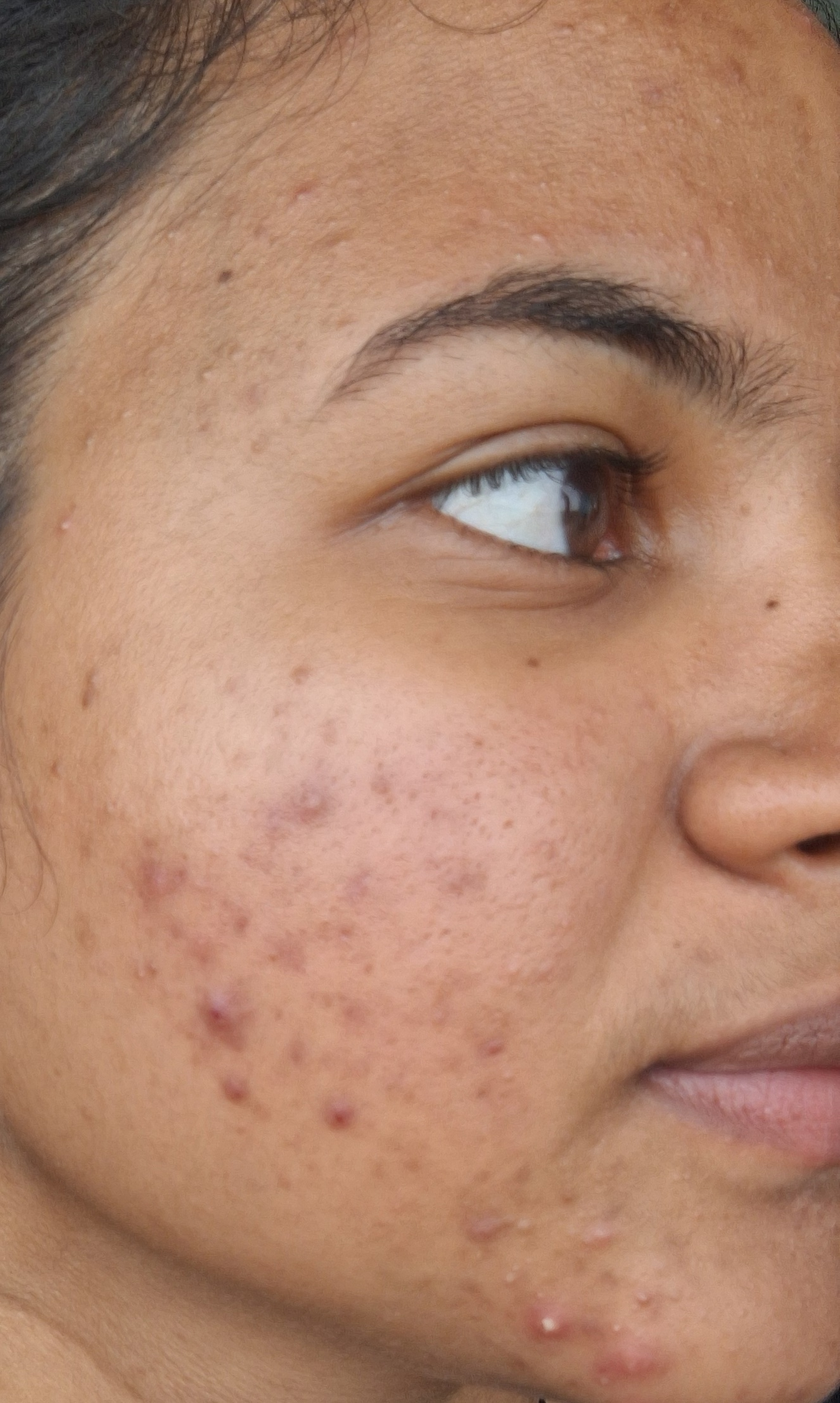closed_comedone: (193, 335, 246, 444), (494, 210, 578, 273), (40, 495, 112, 567), (680, 194, 738, 261), (284, 178, 332, 224)
papule: (314, 1095, 383, 1164), (460, 1199, 538, 1259), (131, 847, 212, 900), (434, 833, 490, 903), (214, 1058, 277, 1120), (198, 979, 251, 1039)
pustule: (293, 768, 355, 845), (529, 1299, 580, 1359)
